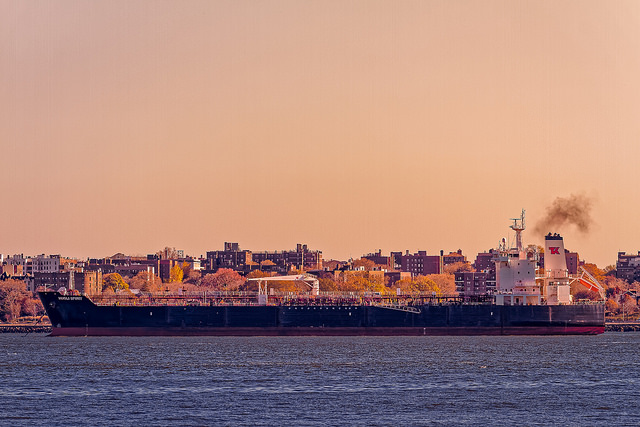tanker: (32, 206, 604, 334)
